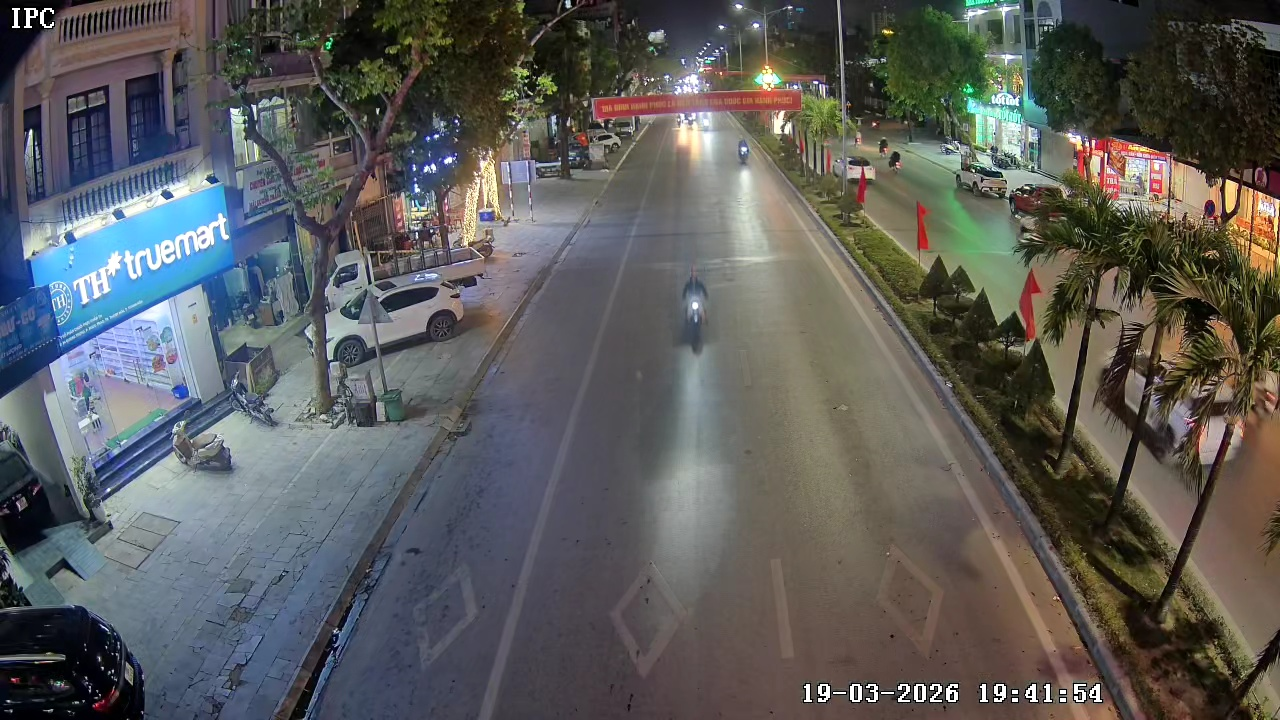car: (0, 603, 150, 719), (345, 267, 468, 358)
motorbike: (173, 424, 238, 473), (674, 268, 711, 352), (736, 138, 752, 167)
